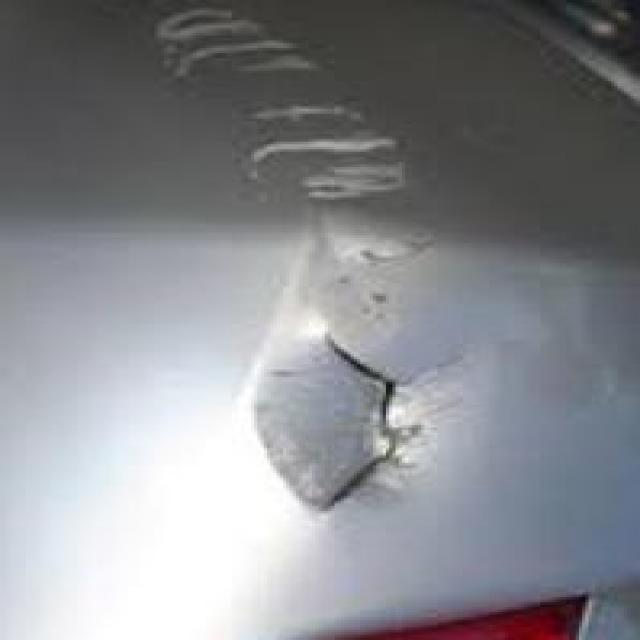scratch: (117, 9, 468, 288)
